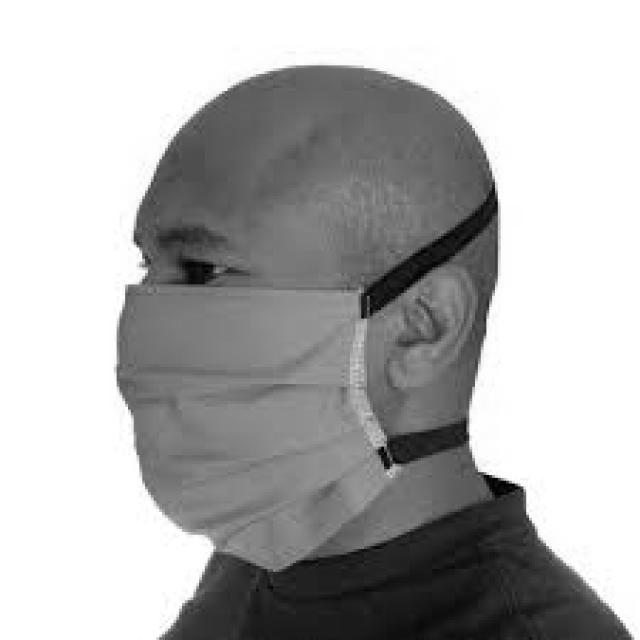fake: (100, 273, 384, 564)
real: (110, 170, 386, 572)
